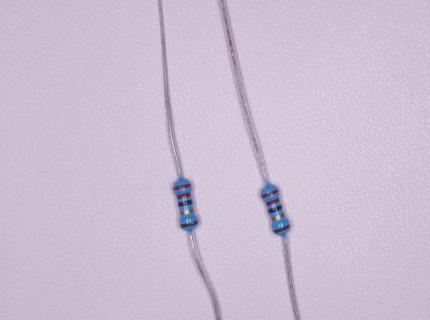Black band: (268, 204, 283, 213), (178, 199, 193, 207)
Brown band: (273, 224, 291, 233), (180, 220, 198, 228)
Gold band: (271, 213, 285, 221), (180, 208, 195, 215)
Red band: (261, 188, 279, 198), (173, 183, 192, 191), (266, 197, 280, 206), (177, 192, 191, 199)
